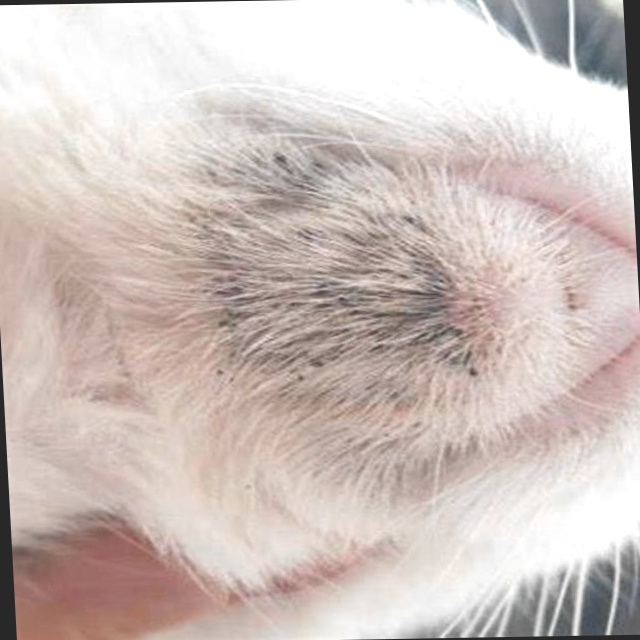acne: (194, 152, 492, 430)
